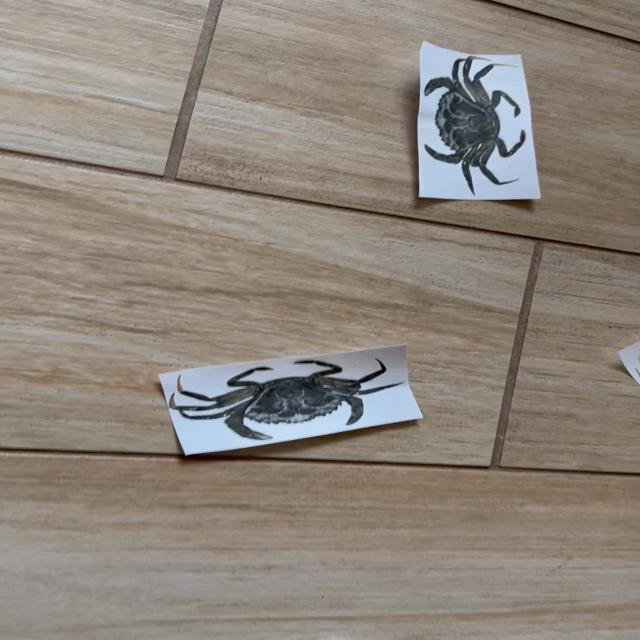egc: (170, 360, 401, 439), (425, 56, 526, 195)
